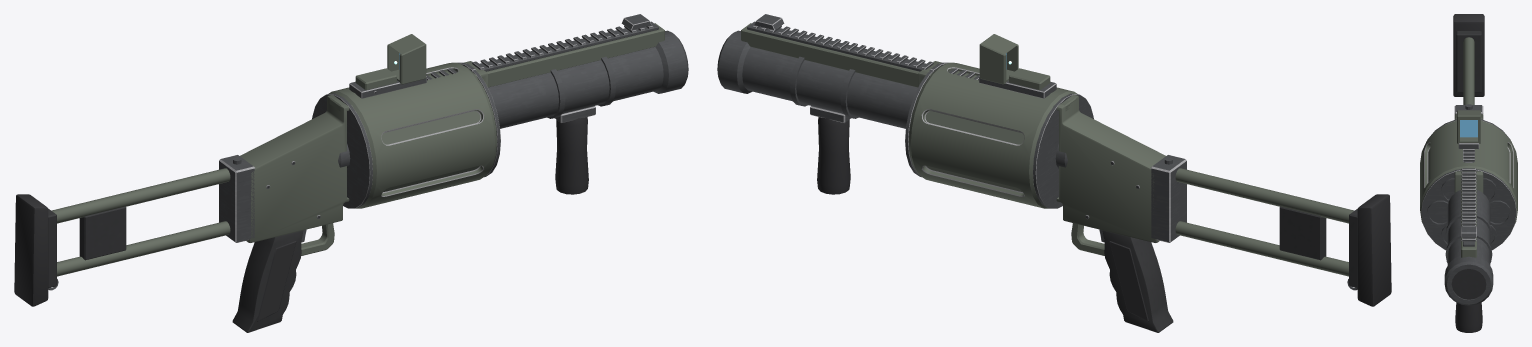
The picture shows the model from 3 angles, left to right: view 1: azimuth 30°, elevation 25°; view 2: azimuth 150°, elevation 25°; view 3: azimuth 270°, elevation 25°; orthographic projection. The views are drawn at different scales.
Parts seen in each view (by area): view 1: W_gl; view 2: W_gl; view 3: W_gl.
Boxes of the visible parts, x1,y1,x2,y2 form: W_gl: [14, 14, 688, 332]; W_gl: [717, 14, 1391, 332]; W_gl: [1420, 14, 1517, 332].
Size of the model in its own units: 0.7729 by 0.2781 by 0.124.
7 materials, 3 textured.
